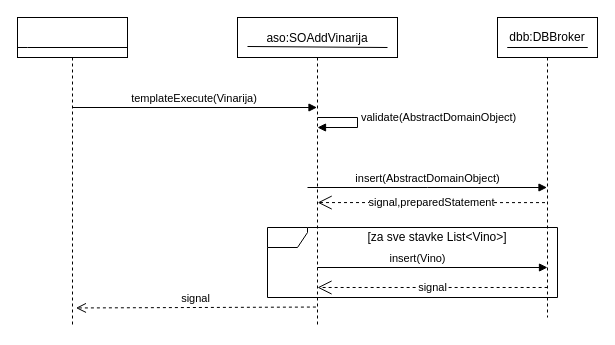
Some shapes in this 615 by 345 pixel diagram are drawn without their labels. Each missing label, with the box of its shape:
for: (266, 226, 558, 298)
sc:ServerController: (16, 16, 128, 328)
